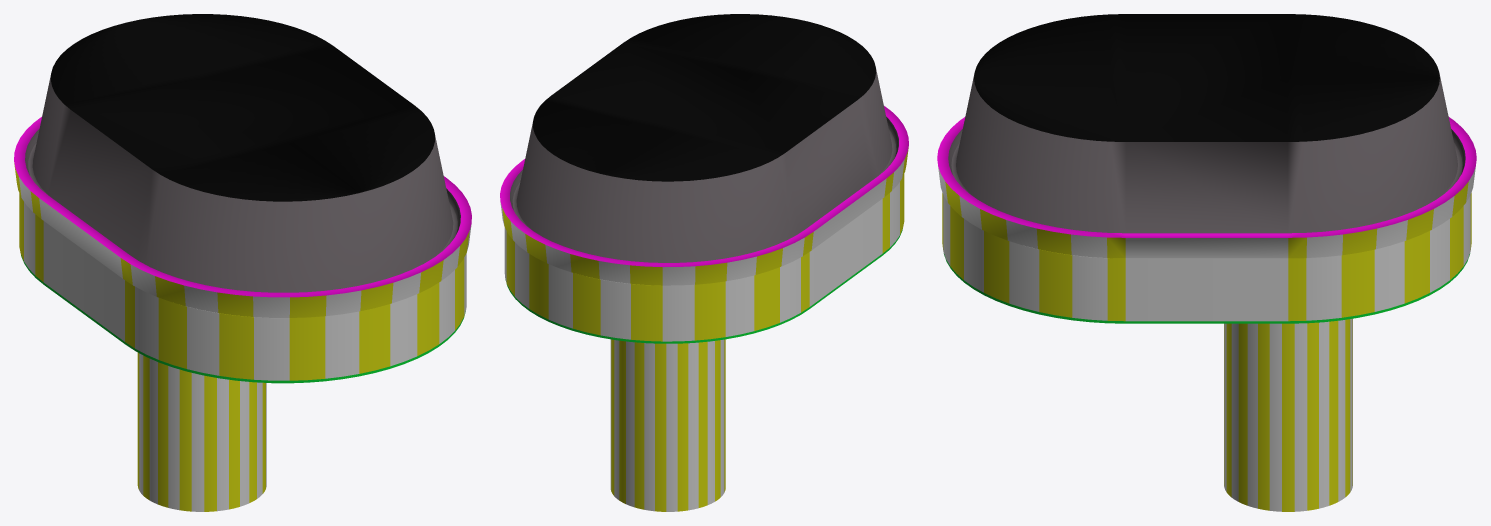
Rendered from Habitacion.fbx.
3 renders of one model, left to right at view 1: azimuth 30°, elevation 25°; view 2: azimuth 150°, elevation 25°; view 3: azimuth 270°, elevation 25°, orthographic. The views are drawn at different scales.
Visible parts, largest first — view 1: escenario_high.001; view 2: escenario_high.001; view 3: escenario_high.001.
Boxes of the visible parts, x1,y1,x2,y2 form: escenario_high.001: [14, 14, 471, 511]; escenario_high.001: [500, 14, 908, 511]; escenario_high.001: [937, 14, 1476, 511].
Size of the model in its own units: 70.3 by 83.75 by 101.
